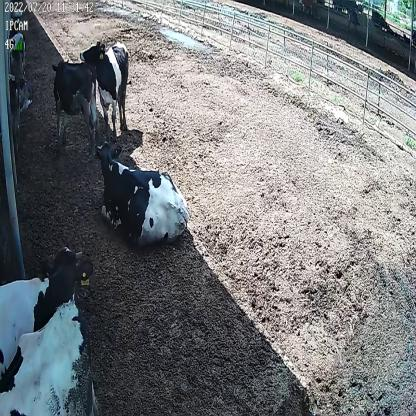cow: (91, 141, 191, 246), (76, 37, 130, 137), (50, 54, 100, 160)
